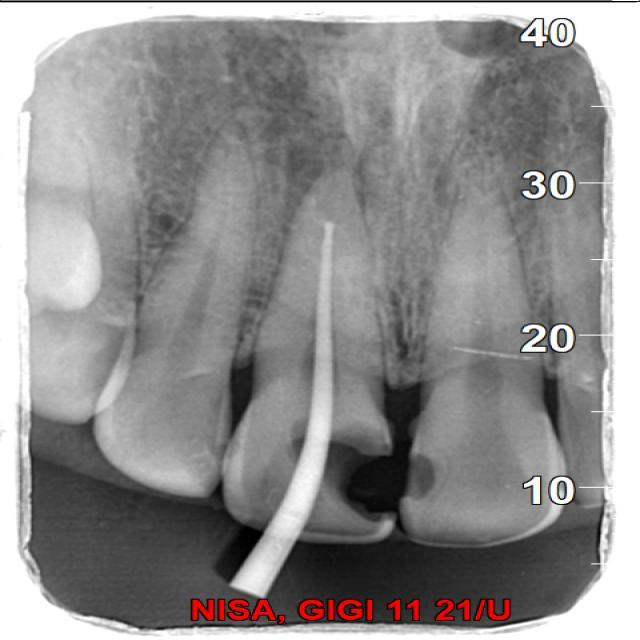individual-tooth-8tto: (408, 177, 580, 559), (90, 136, 258, 499), (227, 187, 389, 546)
